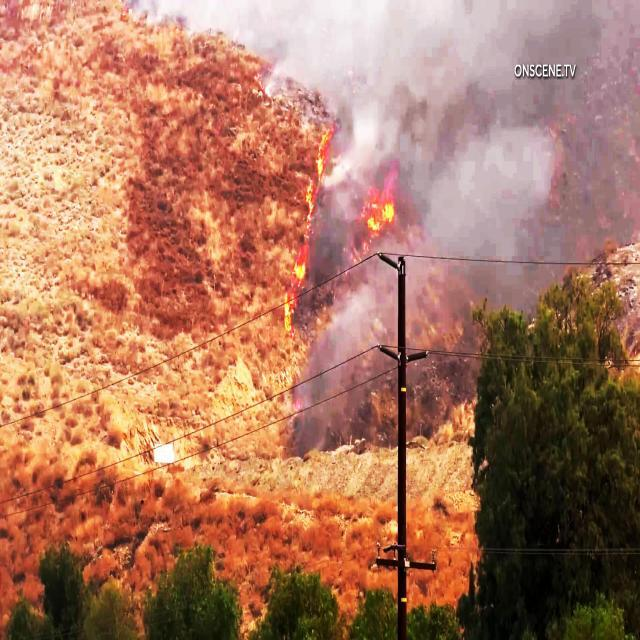Fire: (277, 132, 342, 339), (356, 164, 404, 264)
Smoke: (253, 48, 640, 126), (131, 0, 640, 42), (394, 175, 548, 304), (340, 127, 640, 174), (344, 282, 394, 362), (305, 338, 337, 452)
